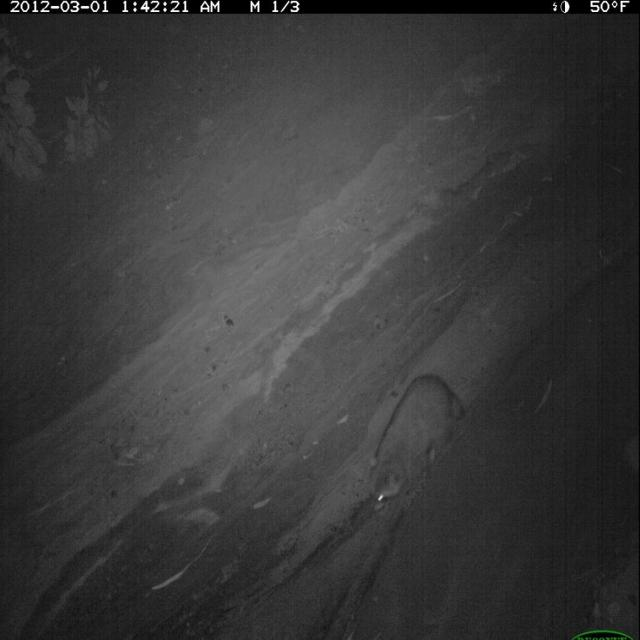raccoon: (364, 368, 471, 519)
